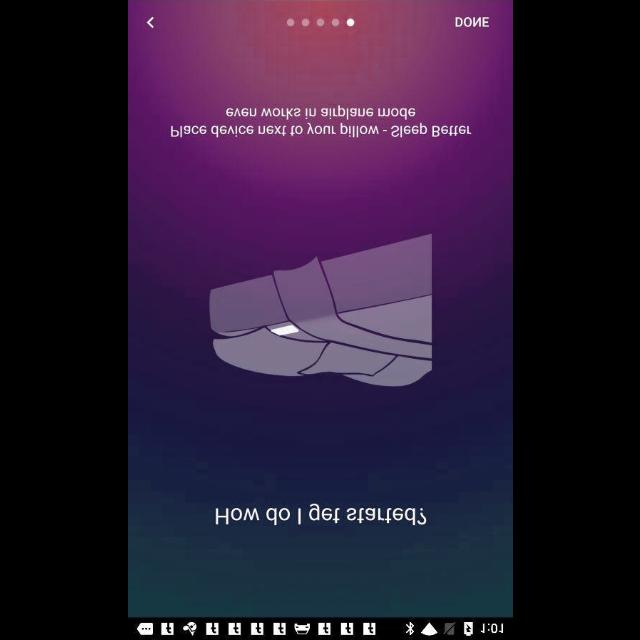icon: (146, 16, 154, 28)
image: (208, 233, 430, 387)
pageindicator: (286, 17, 354, 27)
text: (170, 104, 472, 138), (214, 502, 426, 524), (454, 16, 490, 28)
uppertaskbar: (128, 617, 512, 639)
